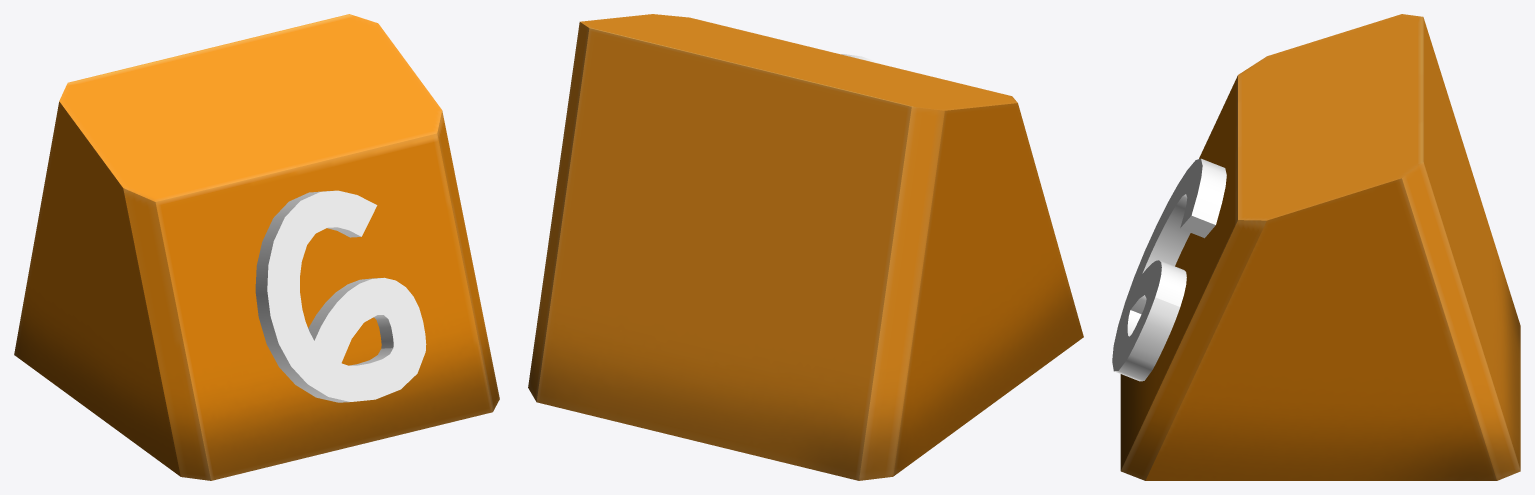
File: hole6Mesh.FBX
3 renders of one model, left to right at view 1: azimuth 30°, elevation 25°; view 2: azimuth 150°, elevation 25°; view 3: azimuth 270°, elevation 25°, orthographic. The views are drawn at different scales.
Visible parts, largest first — view 1: holeNumber6; view 2: holeNumber6; view 3: holeNumber6.
Part boxes in pixels (<box>): holeNumber6: <box>14,14,499,480</box>; holeNumber6: <box>528,14,1083,480</box>; holeNumber6: <box>1112,14,1520,480</box>.
Size of the model in its own units: 2026 by 1779 by 2129.
